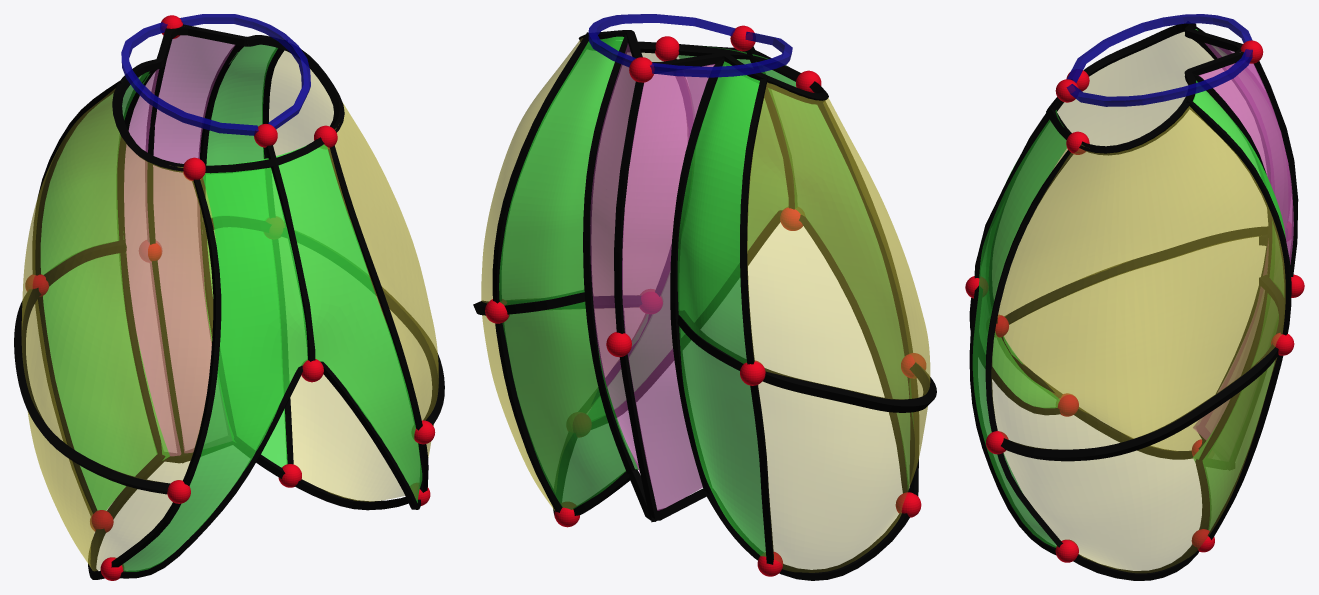
3 renders of one model, left to right at view 1: azimuth 30°, elevation 25°; view 2: azimuth 150°, elevation 25°; view 3: azimuth 270°, elevation 25°, orthographic. The views are drawn at different scales.
Parts seen in each view (by area): view 1: desirefx_me01.007, desirefx_me01.006, Sphere.004, Sphere.003, Sphere.002, desirefx_me01.003, desirefx_me01.005, Sphere.005, desirefx_me01.004, Sphere.001, Sphere.007, Sphere.011 (+4 smaller); view 2: desirefx_me01.007, Sphere.003, Sphere.002, desirefx_me01.006, desirefx_me01.004, Sphere.004, desirefx_me01.005, Sphere.005, Sphere.001, desirefx_me01.003, Sphere.007, Sphere.008 (+4 smaller); view 3: desirefx_me01.007, desirefx_me01.006, desirefx_me01.005, desirefx_me01.003, Sphere.003, Sphere.004, Sphere.002, Sphere.005, desirefx_me01.004, Sphere.001, Sphere.007, Sphere.006 (+3 smaller).
Part boxes in pixels (x1=…): desirefx_me01.007: x1=21, y1=26, x2=438, y2=571; desirefx_me01.006: x1=14, y1=216, x2=444, y2=494; Sphere.004: x1=111, y1=145, x2=428, y2=567; Sphere.003: x1=32, y1=48, x2=293, y2=515; Sphere.002: x1=117, y1=41, x2=248, y2=456; desirefx_me01.003: x1=112, y1=24, x2=344, y2=173; desirefx_me01.005: x1=121, y1=14, x2=310, y2=135; Sphere.005: x1=119, y1=361, x2=420, y2=578; desirefx_me01.004: x1=88, y1=437, x2=408, y2=579; Sphere.001: x1=145, y1=42, x2=184, y2=453; Sphere.007: x1=265, y1=145, x2=315, y2=361; Sphere.011: x1=167, y1=420, x2=435, y2=503; desirefx_me01.007: x1=481, y1=36, x2=930, y2=572; Sphere.003: x1=492, y1=32, x2=773, y2=564; Sphere.002: x1=583, y1=34, x2=724, y2=494; desirefx_me01.006: x1=473, y1=290, x2=936, y2=412; desirefx_me01.004: x1=553, y1=433, x2=909, y2=580; Sphere.004: x1=591, y1=58, x2=918, y2=496; desirefx_me01.005: x1=588, y1=14, x2=792, y2=77; Sphere.005: x1=591, y1=210, x2=909, y2=493; Sphere.001: x1=614, y1=81, x2=657, y2=521; desirefx_me01.003: x1=578, y1=30, x2=828, y2=104; Sphere.007: x1=746, y1=46, x2=794, y2=209; Sphere.008: x1=485, y1=299, x2=765, y2=385; desirefx_me01.007: x1=972, y1=29, x2=1293, y2=572; desirefx_me01.006: x1=1001, y1=226, x2=1283, y2=461; desirefx_me01.005: x1=1066, y1=14, x2=1252, y2=106; desirefx_me01.003: x1=1046, y1=23, x2=1243, y2=155; Sphere.003: x1=1186, y1=26, x2=1291, y2=539; Sphere.004: x1=985, y1=102, x2=1073, y2=547; Sphere.002: x1=1184, y1=31, x2=1272, y2=461; Sphere.005: x1=969, y1=286, x2=1060, y2=555; desirefx_me01.004: x1=1073, y1=407, x2=1210, y2=580; Sphere.001: x1=1254, y1=61, x2=1298, y2=276; Sphere.007: x1=974, y1=97, x2=1062, y2=278; Sphere.006: x1=1055, y1=393, x2=1078, y2=562.
Bounding box in the file's own units: 6.44 × 7.7 × 4.98.
